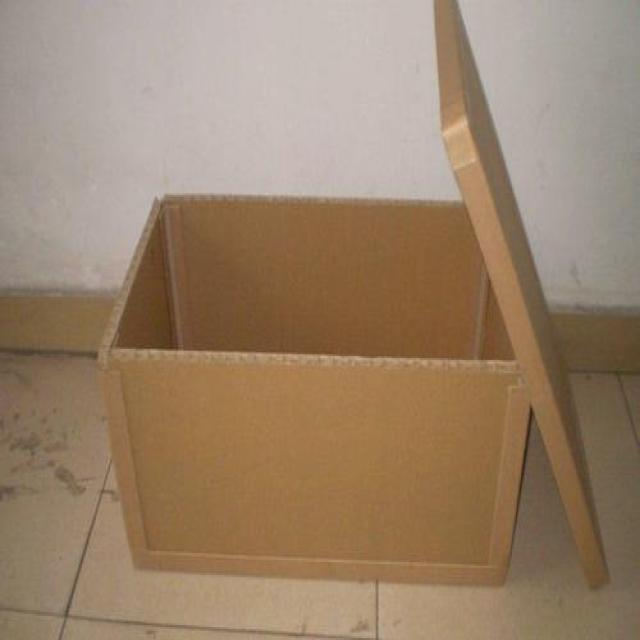cardboard: (107, 192, 520, 588), (433, 1, 614, 589)
